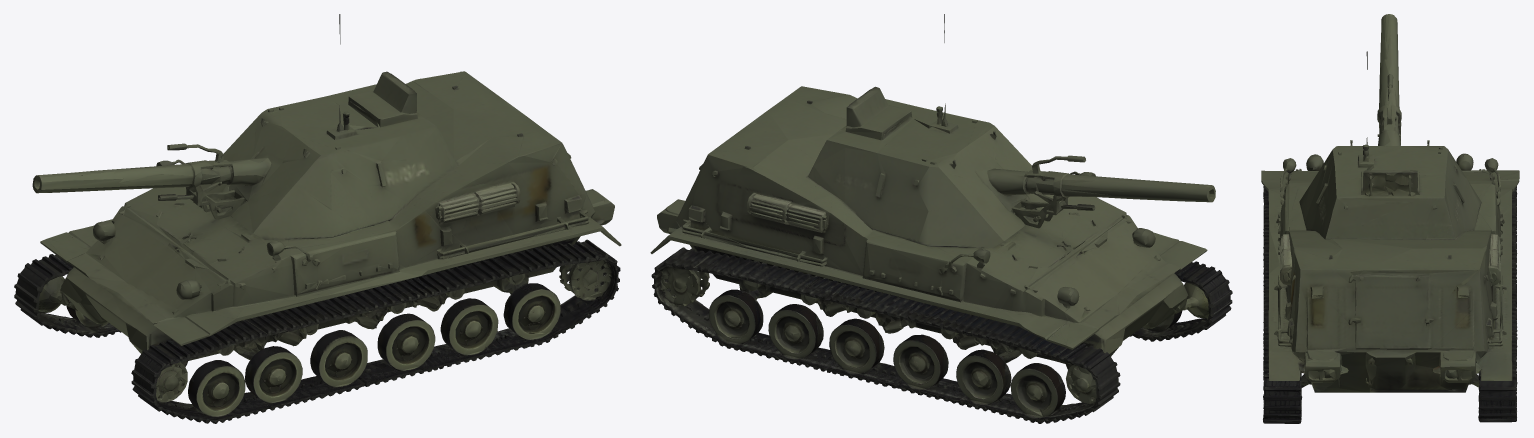
3 renders of one model, left to right at view 1: azimuth 30°, elevation 25°; view 2: azimuth 150°, elevation 25°; view 3: azimuth 270°, elevation 25°, orthographic. The views are drawn at different scales.
Visible parts, largest first — view 1: output_unwrapped; view 2: output_unwrapped; view 3: output_unwrapped.
Part boxes in pixels (x1,y1,x2,y2): output_unwrapped: [14, 14, 621, 423]; output_unwrapped: [650, 14, 1232, 423]; output_unwrapped: [1261, 14, 1519, 423].
Size of the model in its own units: 1.9 by 1.11 by 0.8675.
Materials: 1 (1 with a texture image).
